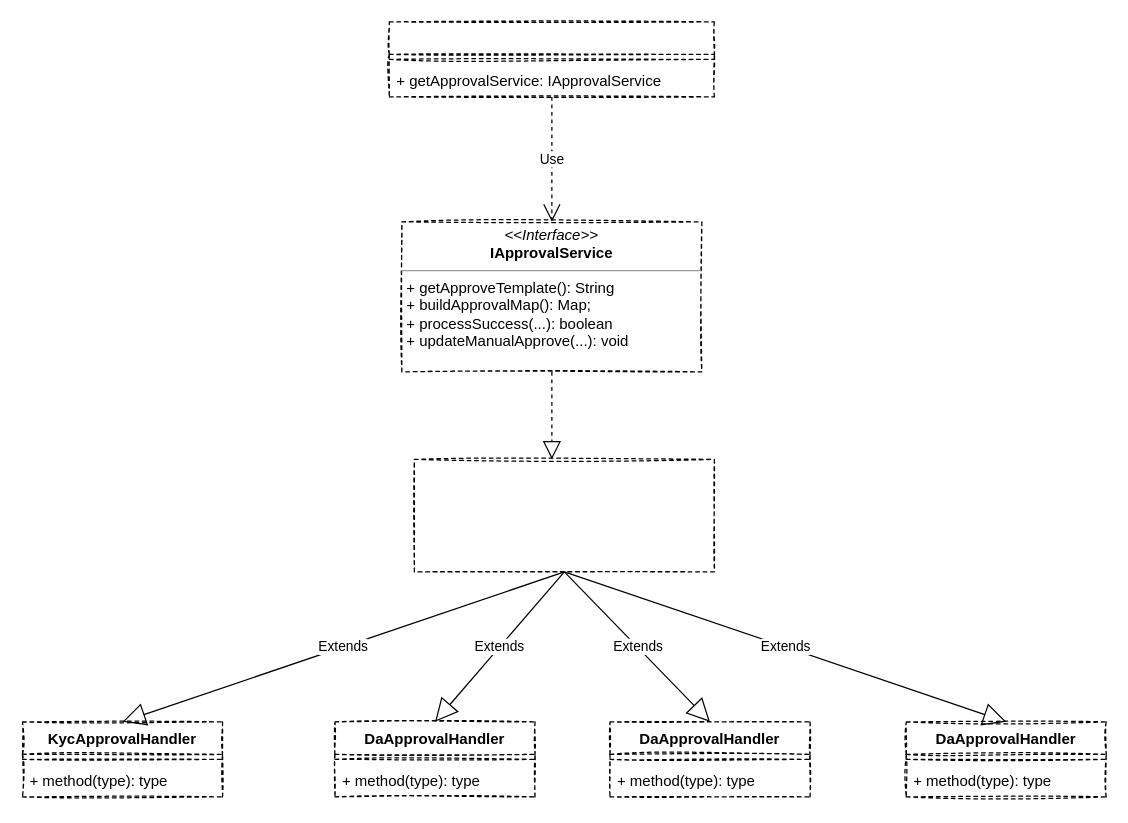
Image size: 1128x823. Some labels were removed from this diagram. The shapes that lost their labels are listed below. From the top down, each one's box as (x1, y1, x2, y2) in pixels, then its label:
(388, 21, 714, 97): ApprovalRequestUtil
(413, 458, 714, 572): AbstractCustomerApprovalHandler + buildApprovalMap(): Map;
